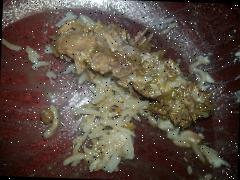organic: (40, 12, 212, 124)
